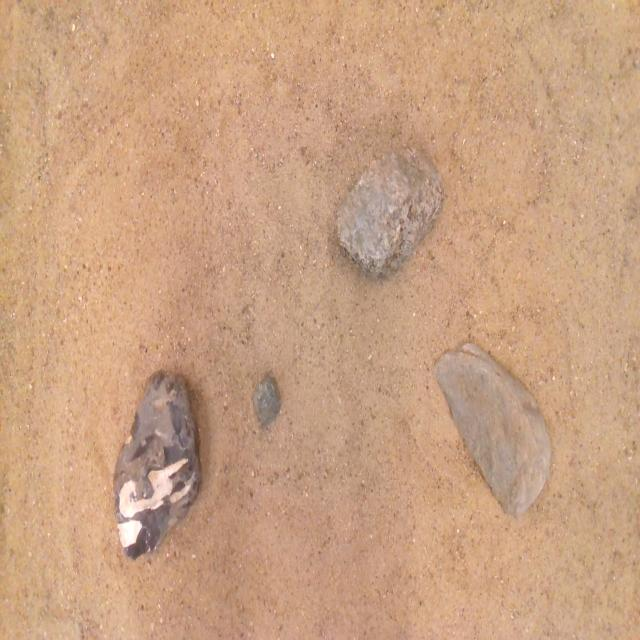rock: (435, 343, 551, 516), (114, 372, 200, 558), (337, 149, 444, 274), (252, 376, 280, 425)
